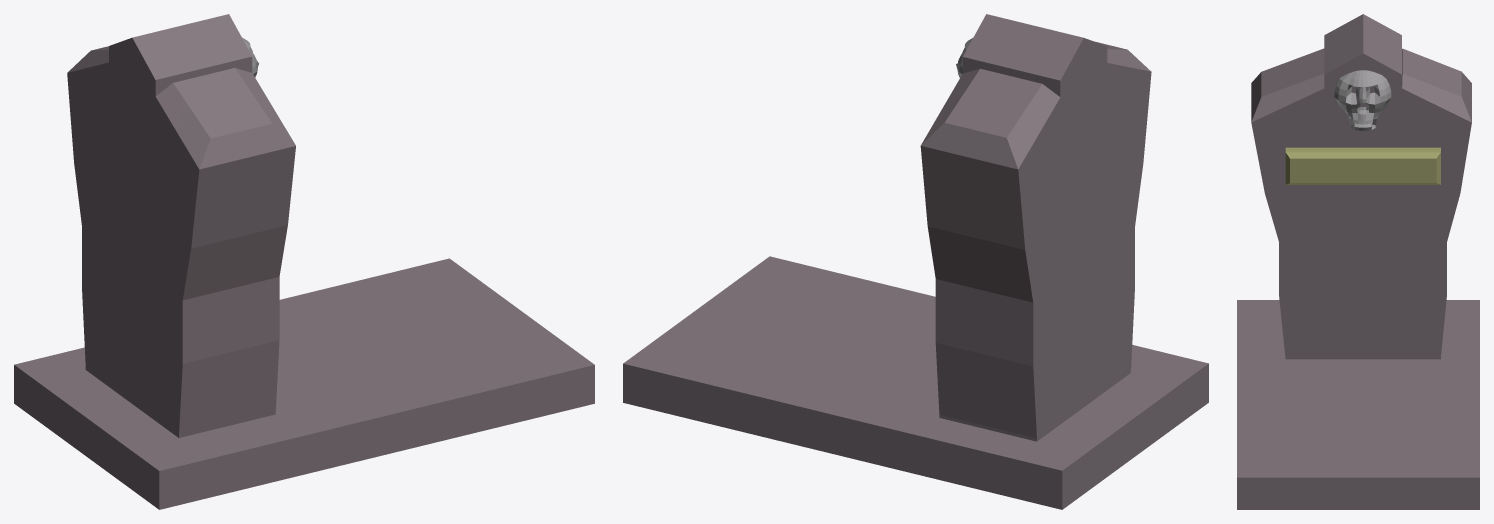
File: Scaled Gravestone.glb
3 views of the same model, side by side, from view 1: azimuth 30°, elevation 25°; view 2: azimuth 150°, elevation 25°; view 3: azimuth 270°, elevation 25° (orthographic). The views are drawn at different scales.
Visible parts, largest first — view 1: Gravestone; view 2: Gravestone; view 3: Gravestone.
Boxes of the visible parts, x1,y1,x2,y2 form: Gravestone: (14,14,594,509); Gravestone: (623,14,1208,509); Gravestone: (1237,14,1479,509).
Bounding box in the file's own units: 1.35 × 1.2 × 0.7805.
